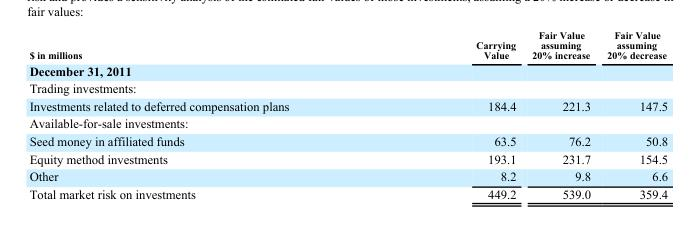table: (28, 29, 667, 200)
table column: (28, 29, 381, 200), (381, 29, 523, 200), (523, 29, 598, 200), (598, 29, 667, 200)
table column header: (28, 29, 667, 62)
table projected row header: (28, 62, 667, 79), (28, 79, 667, 96), (28, 114, 667, 131)
table row: (28, 29, 667, 62), (28, 96, 667, 114), (28, 131, 667, 149), (28, 149, 667, 167), (28, 62, 667, 79), (28, 79, 667, 96), (28, 114, 667, 131), (28, 167, 667, 184), (28, 184, 667, 200)
